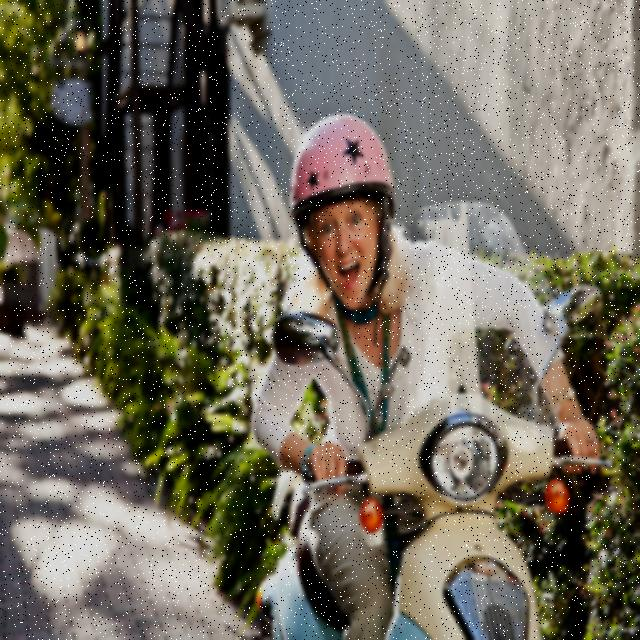not_triplets: (238, 71, 593, 640)
with-helmet: (289, 109, 407, 309)
